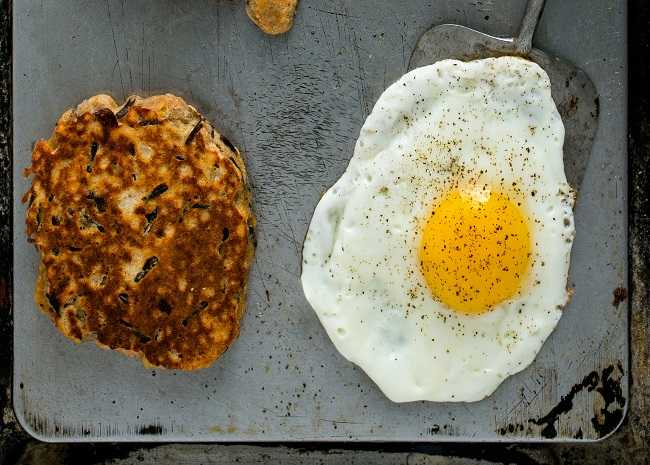fried egg: (310, 60, 584, 410)
